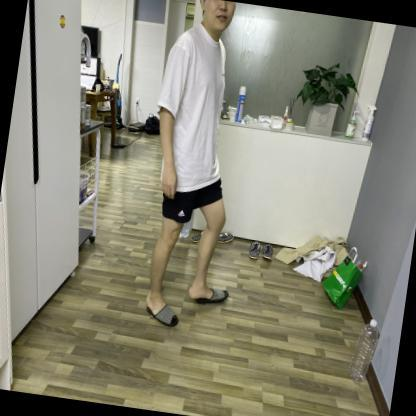no_safety-shoe: (184, 275, 241, 318), (137, 291, 182, 340)
